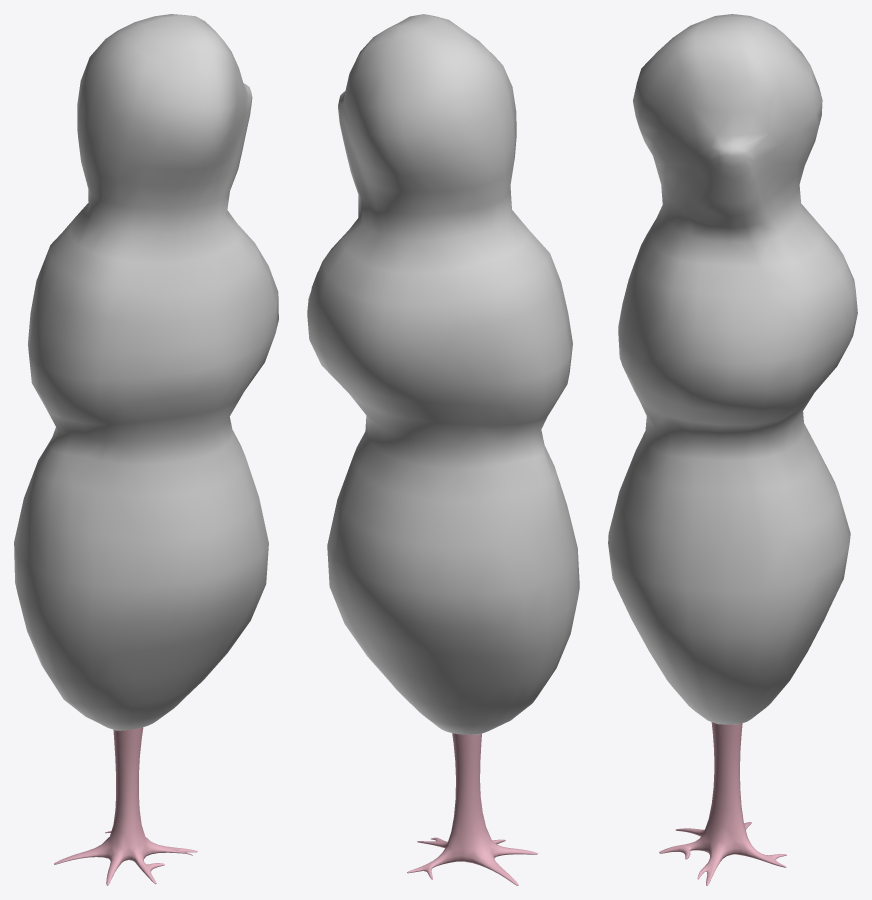
The model's file is Tree_03.fbx.
3 renders of one model, left to right at view 1: azimuth 30°, elevation 25°; view 2: azimuth 150°, elevation 25°; view 3: azimuth 270°, elevation 25°, orthographic. The views are drawn at different scales.
Visible parts, largest first — view 1: Tree_03L, Tree_03; view 2: Tree_03L, Tree_03; view 3: Tree_03L, Tree_03.
Boxes of the visible parts, box(x1,y1,x2,y2) form: Tree_03L: box(14, 14, 278, 730); Tree_03: box(54, 727, 197, 885); Tree_03L: box(307, 14, 579, 734); Tree_03: box(407, 733, 537, 885); Tree_03L: box(608, 14, 857, 724); Tree_03: box(659, 722, 786, 885).
Size of the model in its own units: 1144 by 3702 by 982.
